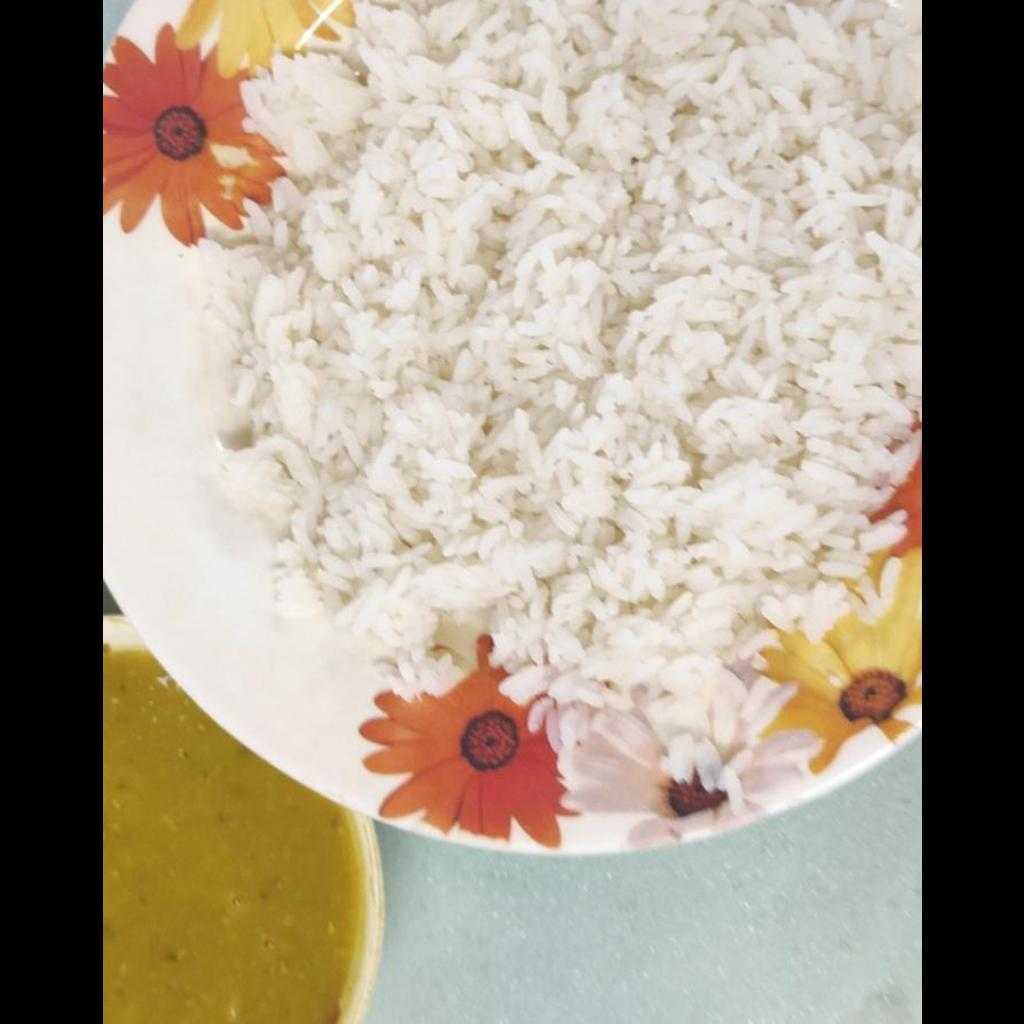daal: (103, 651, 363, 1022)
rice: (186, 0, 920, 815)
